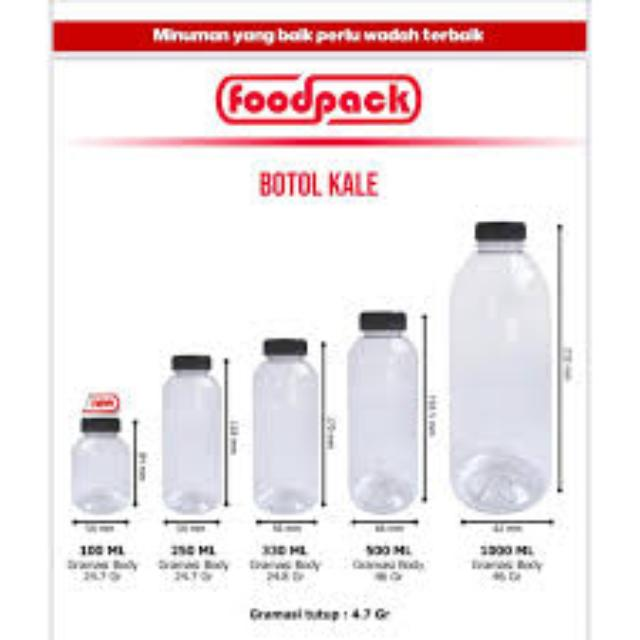trash: (447, 218, 555, 516), (345, 309, 419, 516), (250, 337, 324, 519), (159, 352, 227, 516), (69, 417, 133, 518)
